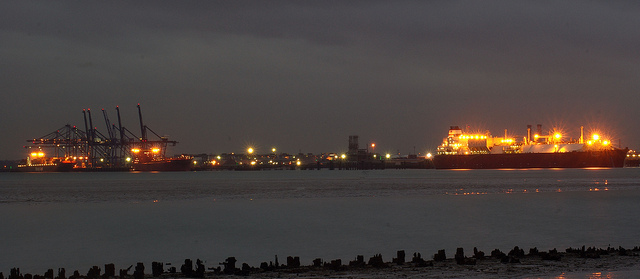LNG_ship: (424, 122, 624, 167)
